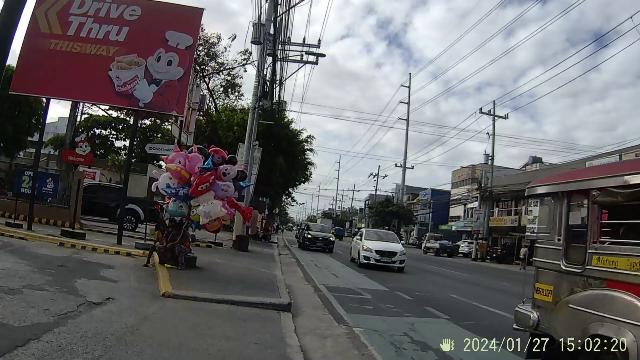car: (349, 226, 408, 272), (296, 221, 334, 253)
utility_post: (476, 94, 512, 264), (476, 96, 512, 210), (394, 69, 418, 207), (367, 165, 389, 208), (331, 155, 345, 207)
